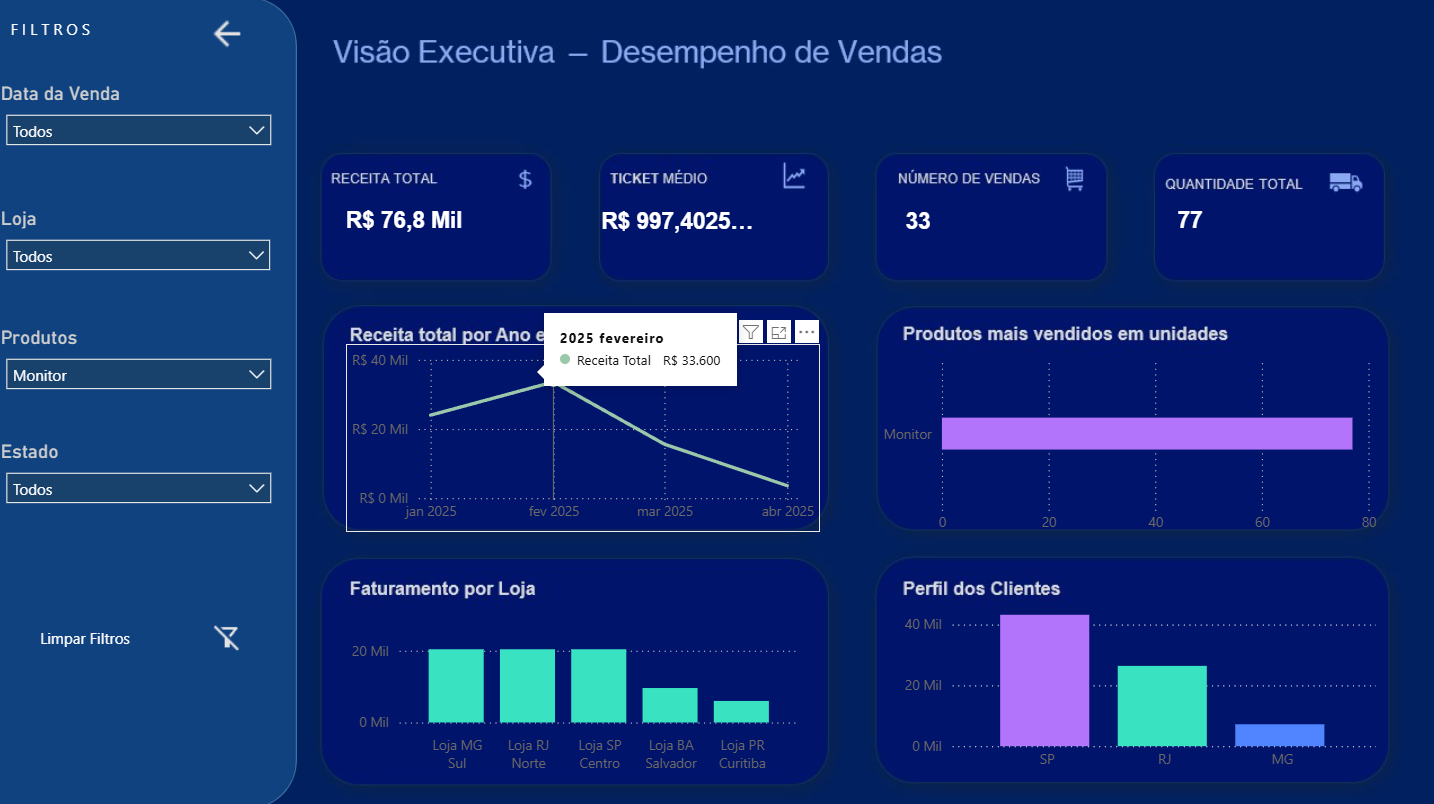

This screenshot's page, from the dashboard's own definition file:
{"tool":"powerbi","page":{"name":"Página 1","canvas":[1280,720],"ordinal":0},"visuals":[{"type":"card","title":"Receita total","fields":{"Values":["varejo_analise vendas.Receita Total"]},"box":[288.2,170.2,152.5,57.6],"z":0},{"type":"card","title":"TICKET Médio","fields":{"Values":["varejo_analise vendas.TICKET Médio"]},"box":[532,169.4,149,60.3],"z":1000},{"type":"card","title":"Numero de Vendas","fields":{"Values":["varejo_analise vendas.Número de vendas"]},"box":[785.6,173.8,69.2,51.4],"z":2000},{"type":"card","title":"Quantidade Total","fields":{"Values":["varejo_analise vendas.Quantidade Total"]},"box":[1024.1,180,74.5,38.1],"z":3000},{"type":"lineChart","fields":{"Y":["varejo_analise vendas.Receita Total"],"Category":["varejo_analise vendas.data_venda.Variation.Hierarquia de datas.Ano","varejo_analise vendas.data_venda.Variation.Hierarquia de datas.Mês"]},"box":[313,307.7,420.3,166.7],"z":4000},{"type":"barChart","title":"Produtos mais vendidos (em unidades)","fields":{"Category":["varejo_analise produtos.nome_produto"],"Y":["varejo_analise vendas.Quantidade Total"]},"box":[779.4,307.7,452.2,176.5],"z":5000},{"type":"columnChart","title":"Faturamento por Loja”","fields":{"Category":["varejo_analise lojas.nome_loja"],"Y":["Sum(varejo_analise vendas.receita)"]},"box":[313,533.8,407,160.5],"z":6000},{"type":"columnChart","title":"Perfil dos Clientes","fields":{"Category":["varejo_analise clientes.estado"],"Y":["varejo_analise vendas.Receita Total"]},"box":[803.3,533.8,428.3,160.5],"z":7000},{"type":"actionButton","box":[0,202.2,170.2,55],"z":12000}]}

Visuals, with their boxes on the page's 1280x720 design canvas (x1, y1, x2, y2). These are canvas units, not pixel positions in the 1434x804 screenshot, which may show the page scaled, cropped or inside an application window:
"Receita total" card: region(288, 170, 441, 228)
"TICKET Médio" card: region(532, 169, 681, 230)
"Numero de Vendas" card: region(786, 174, 855, 225)
"Quantidade Total" card: region(1024, 180, 1099, 218)
lineChart - varejo_analise vendas.Receita Total x varejo_analise vendas.data_venda.Variation.Hierarquia de datas.Ano: region(313, 308, 733, 474)
"Produtos mais vendidos (em unidades)" barChart: region(779, 308, 1232, 484)
"Faturamento por Loja”" columnChart: region(313, 534, 720, 694)
"Perfil dos Clientes" columnChart: region(803, 534, 1232, 694)
actionButton: region(0, 202, 170, 257)
